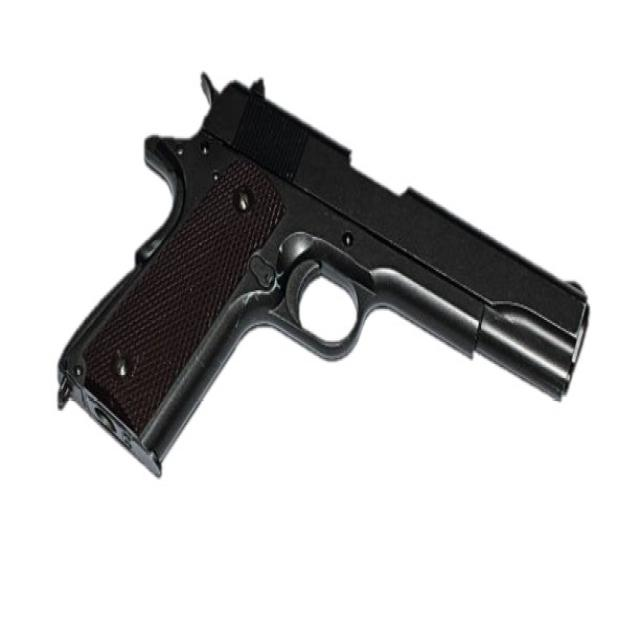pistol: (44, 68, 598, 486)
